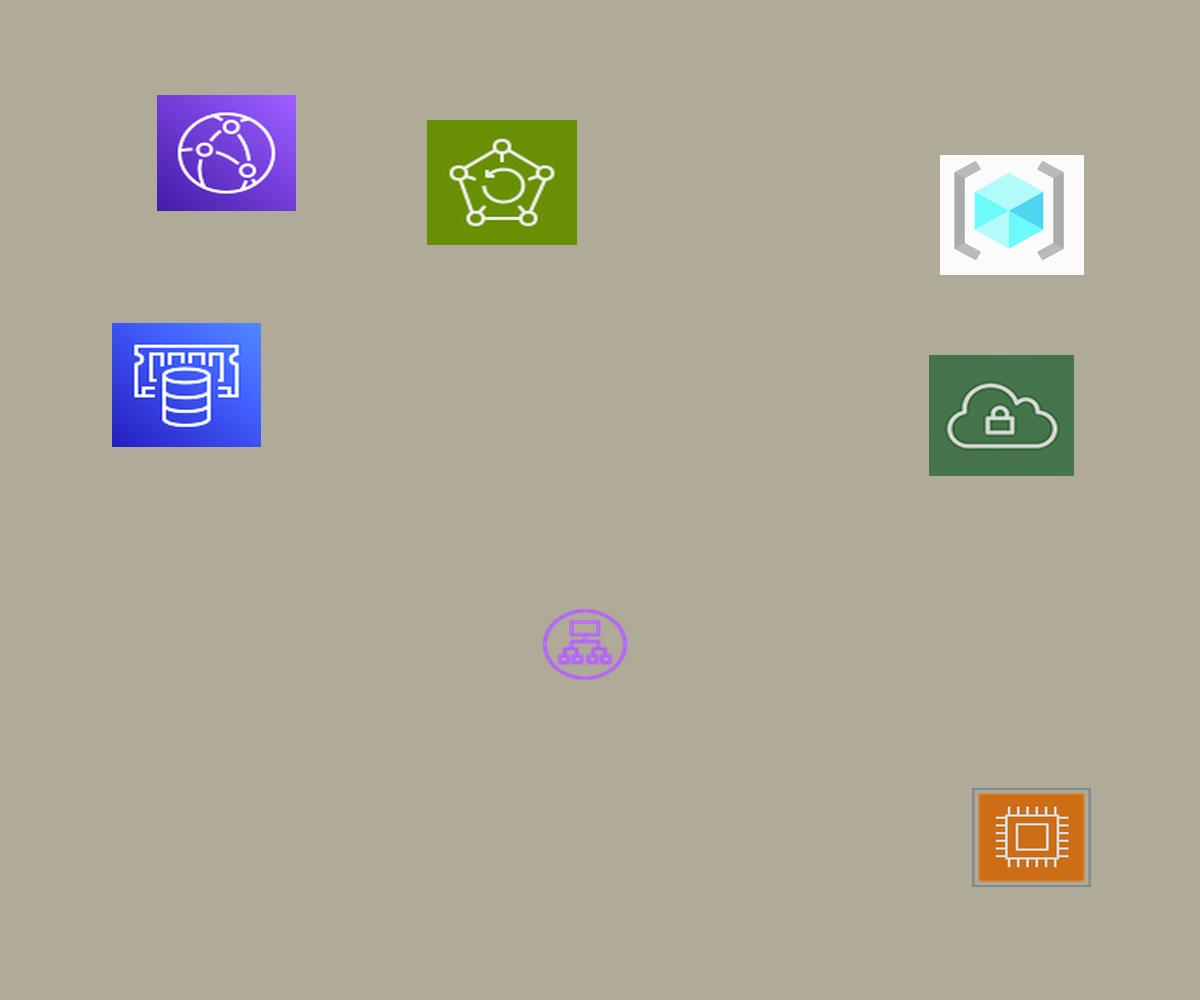AWS-Backup: (427, 120, 577, 245)
AWS-Category_Compute: (972, 788, 1091, 887)
AWS-CloudFront: (157, 95, 296, 211)
AWS-ElastiCache: (112, 323, 261, 447)
AWS-Private_vpc: (929, 355, 1074, 476)
AWS-Res_Elastic-Load-Balancing_Application-Load-Balancer: (539, 606, 631, 683)
Azure_resource_group: (940, 155, 1084, 275)
